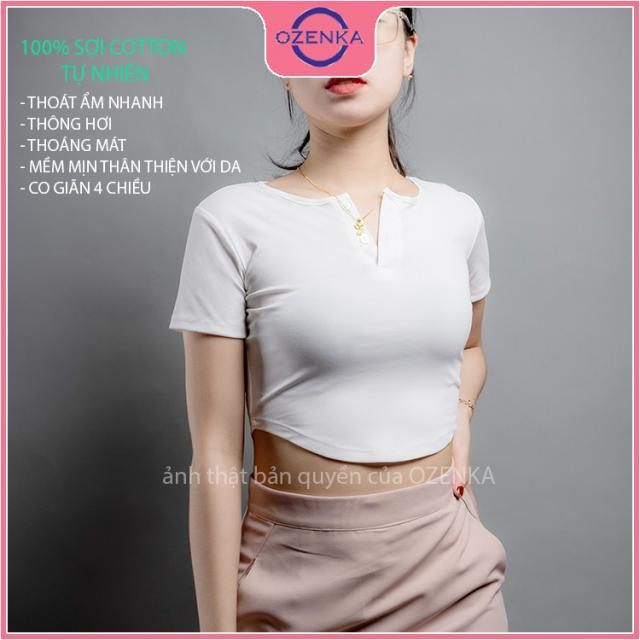Shirt: (172, 176, 492, 468)
